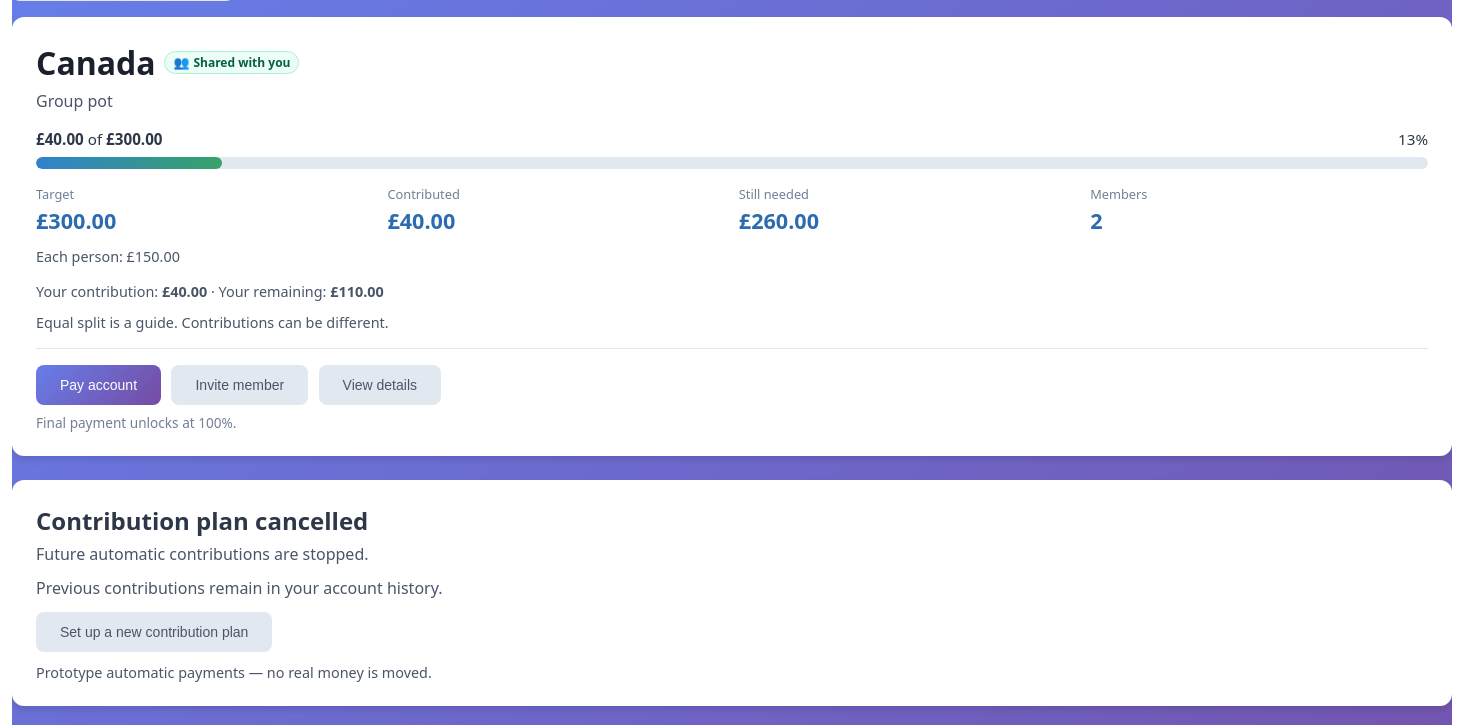
Test: SharedAccountDetail contribution plan management › lets a cancelled member set up a new plan from remaining without rewriting history
The image size is (1464, 725).
expect the element with test id "member-contribution-plan-summary" shows "Contribution plan cancelled": met, box [36,504,368,537]
Click the button "Set up a new contribution plan". click: (154, 632)
box: [36,612,272,652]
(page scrolled)
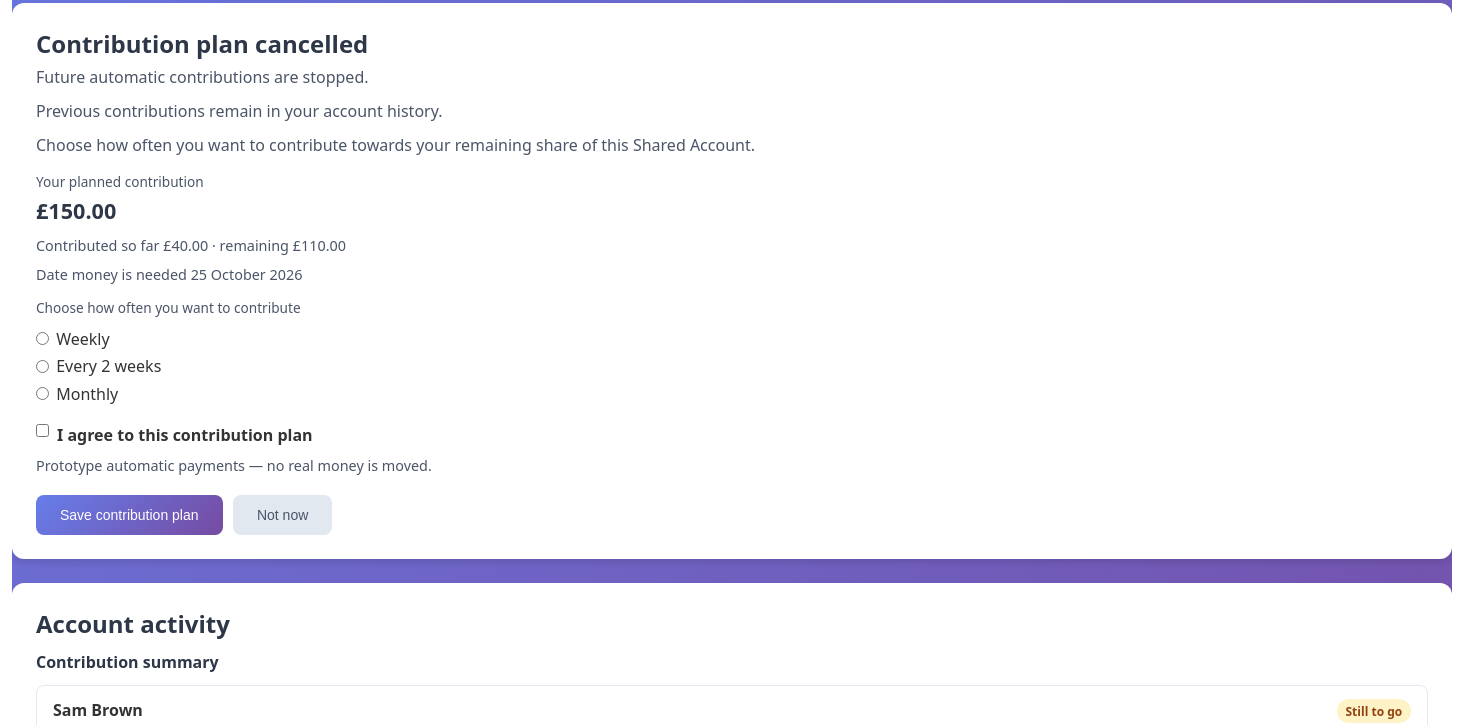
expect the text "Your planned contribution" is shown: met, box [36,172,204,191]
expect the form with test id "member-contribution-plan-new-setup" shows "£150.00": met, box [36,196,116,225]
expect the form with test id "member-contribution-plan-new-setup" shows "Contributed so far £40.00": met, box [36,134,755,536]
Click the radio button labelled "Every 2 weeks". click: (42, 366)
box: [36,360,49,373]
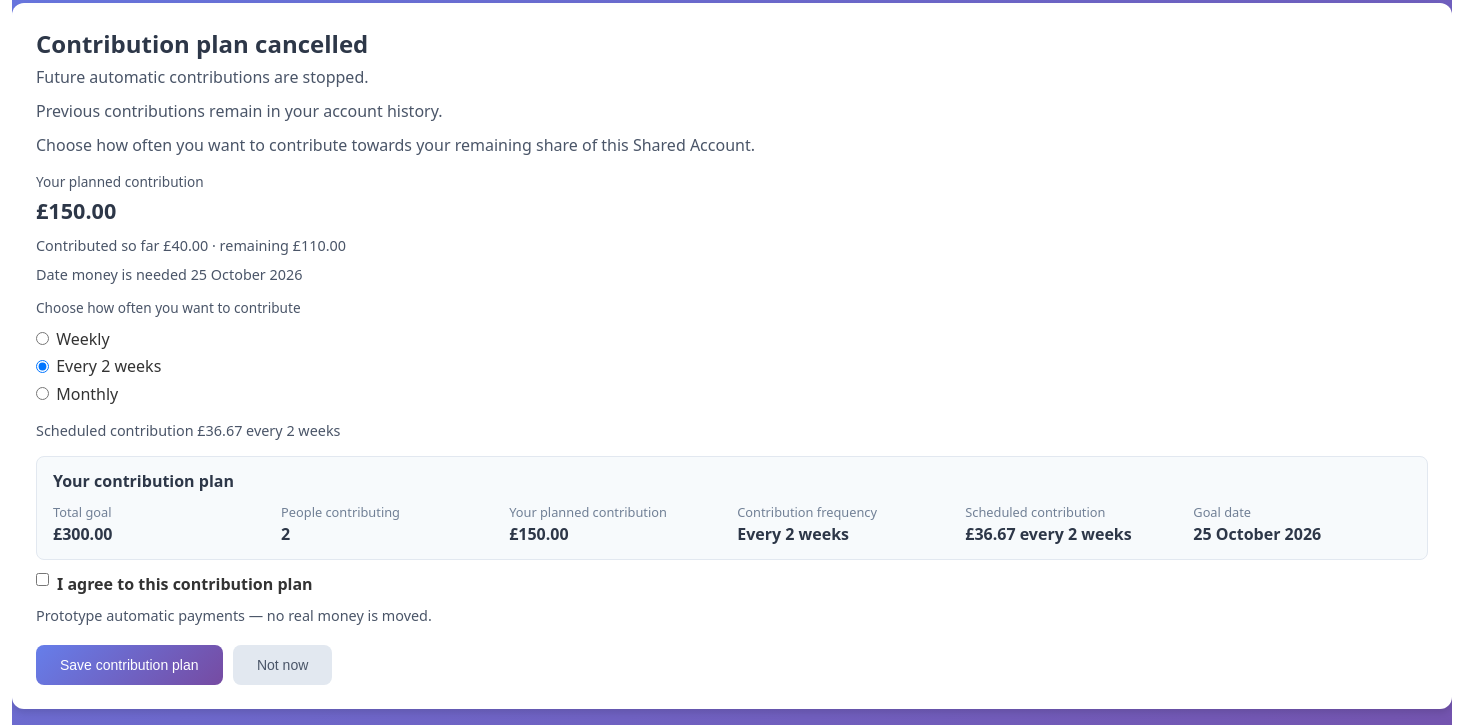
expect the button "Save contribution plan" is disabled: met, box [36,645,222,685]
Click the checkbox labelled "I agree to this contribution plan". click: (42, 580)
box: [36,574,49,586]
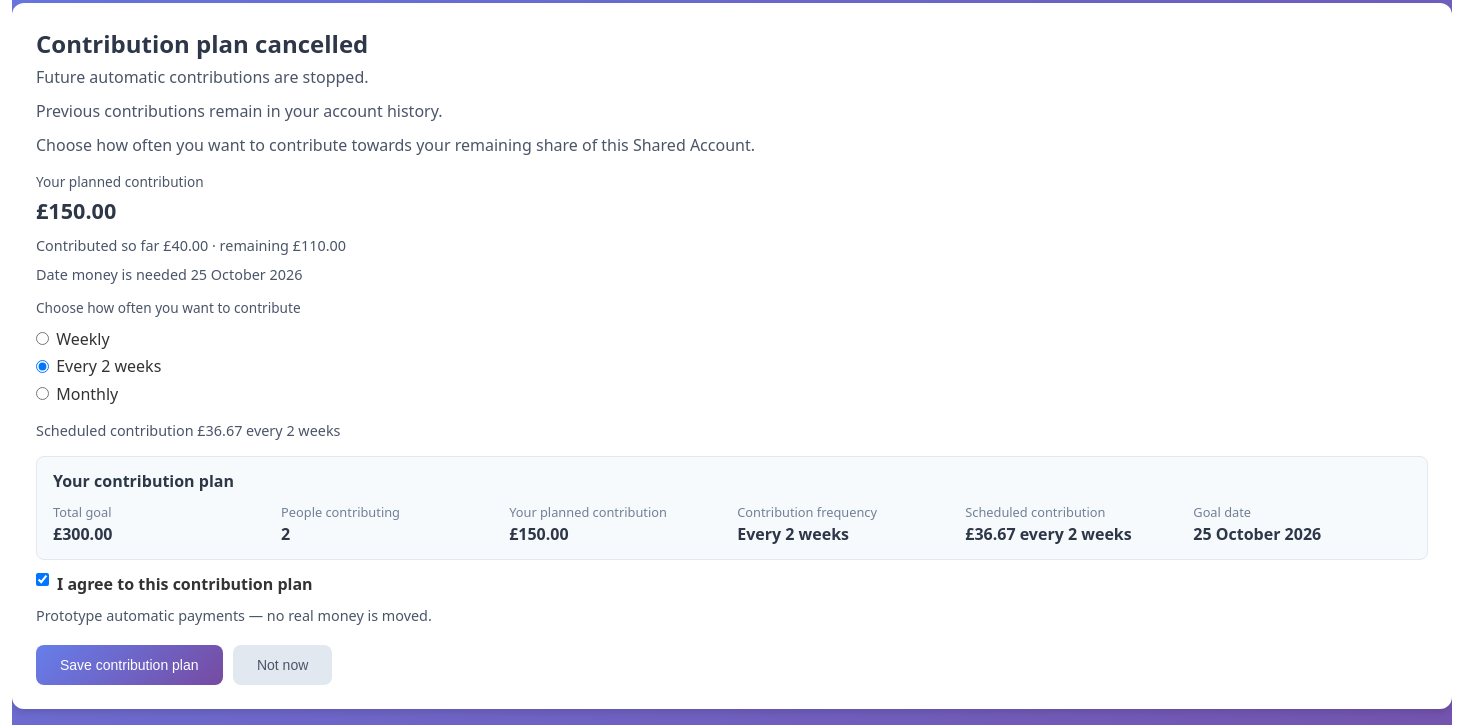
Click the button "Save contribution plan". click: (129, 665)
box: [36,645,222,685]
(page scrolled)
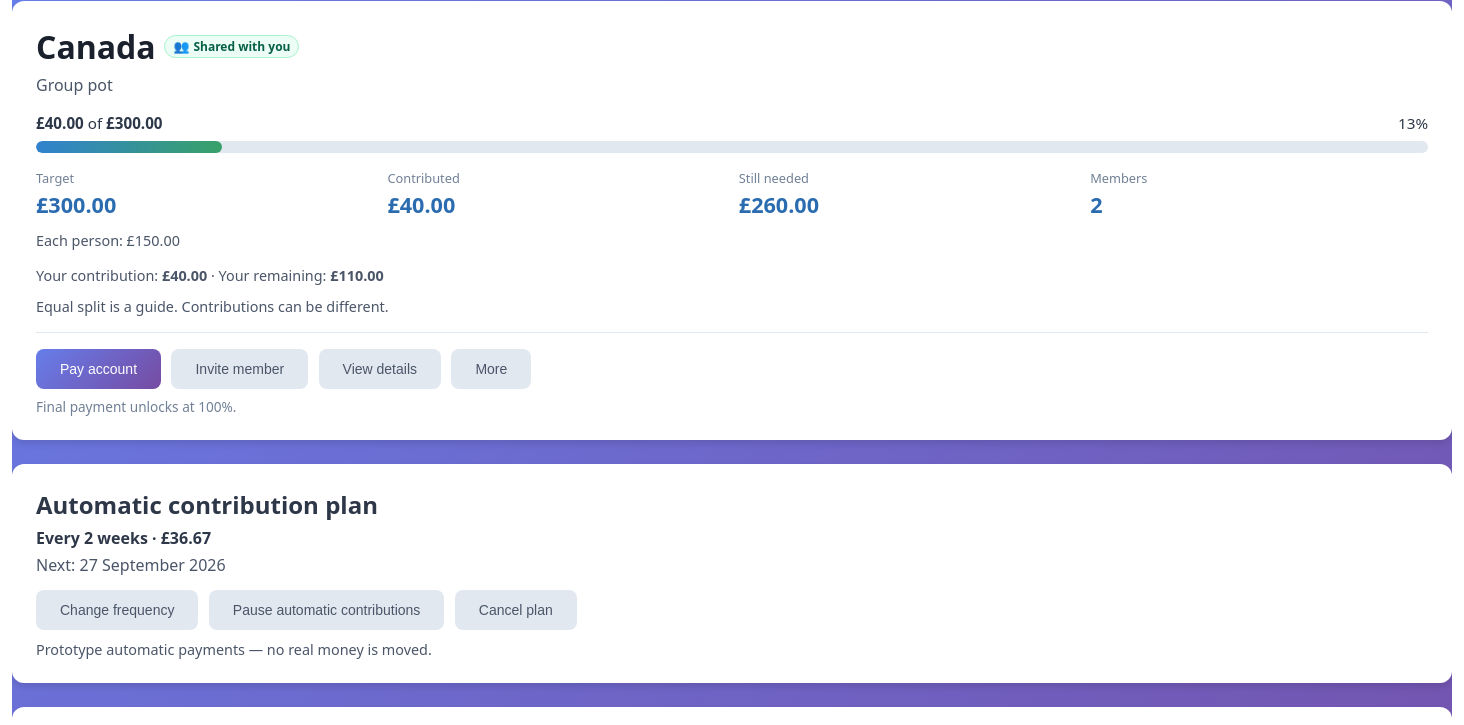
expect the element with test id "member-contribution-plan-summary" shows "Automatic contribution plan": met, box [36,488,378,521]
expect the element with test id "member-contribution-plan-summary" shows "Next: 27 September 2026": met, box [12,464,1452,683]
expect the element with test id "member-contribution-plan-summary" no longer shows "Contribution plan cancelled": met, box [12,464,1452,683]
